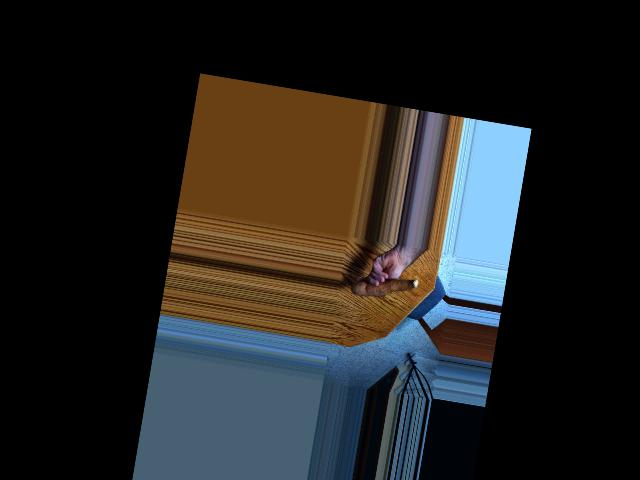sweet_potato: (352, 268, 420, 308)
